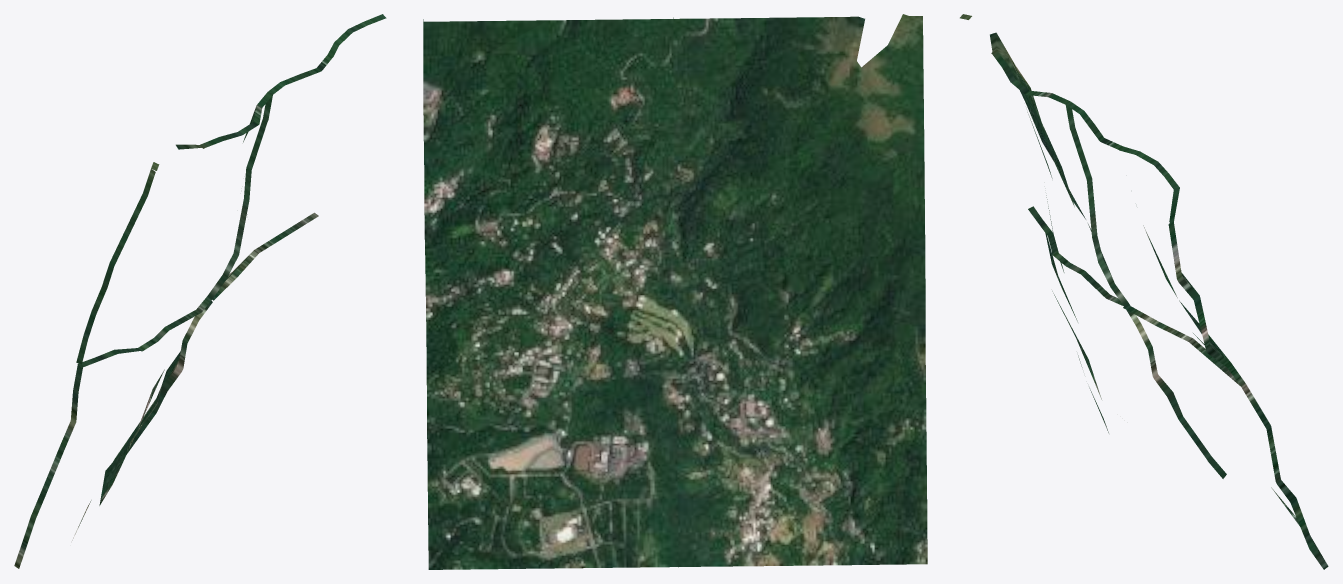
The picture shows the model from 3 angles, left to right: view 1: azimuth 30°, elevation 25°; view 2: azimuth 150°, elevation 25°; view 3: azimuth 270°, elevation 25°; orthographic projection. The views are drawn at different scales.
Bounding box in the file's own units: 2377 × 2403 × 1837.
1 material, 1 textured.
